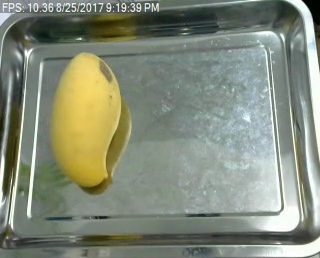Mango: (43, 47, 126, 188)
